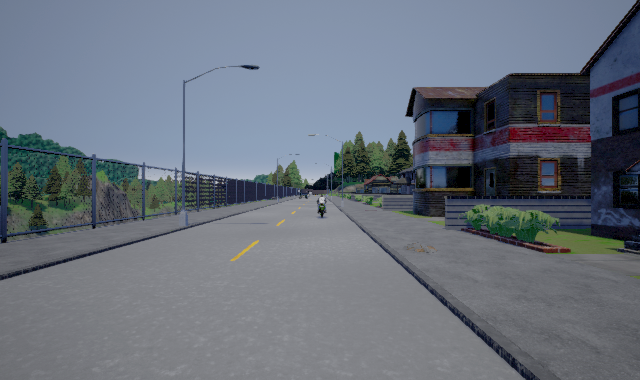motobike: (316, 195, 327, 217)
